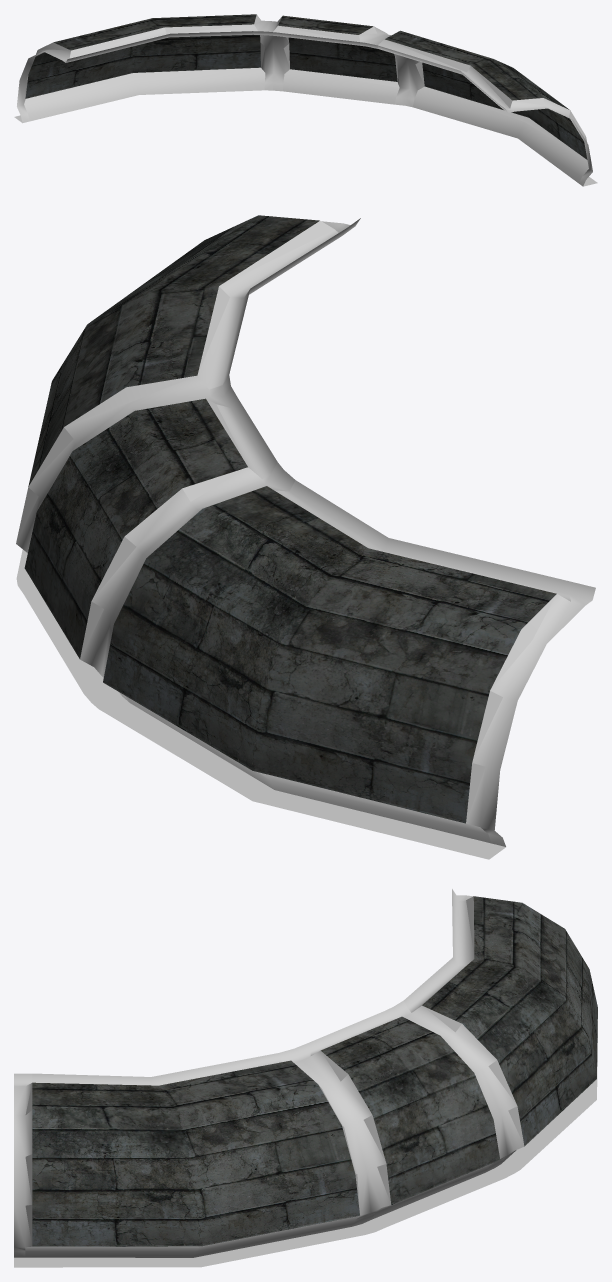
Rendered from corner_concave_round_stairs_flat.dae.
3 views of the same model, one above another, from view 1: azimuth 30°, elevation 25°; view 2: azimuth 150°, elevation 25°; view 3: azimuth 270°, elevation 25° (orthographic). The views are drawn at different scales.
Parts seen in each view (by area): view 1: polySurface117, polySurface134; view 2: polySurface134, polySurface117; view 3: polySurface134, polySurface117.
Boxes of the visible parts, <box> form: polySurface117: <box>14,14,597,186</box>; polySurface134: <box>25,14,587,159</box>; polySurface134: <box>24,215,556,823</box>; polySurface117: <box>16,218,595,859</box>; polySurface134: <box>32,896,597,1246</box>; polySurface117: <box>14,889,597,1267</box>.
Size of the model in its own units: 8 by 2 by 8.
